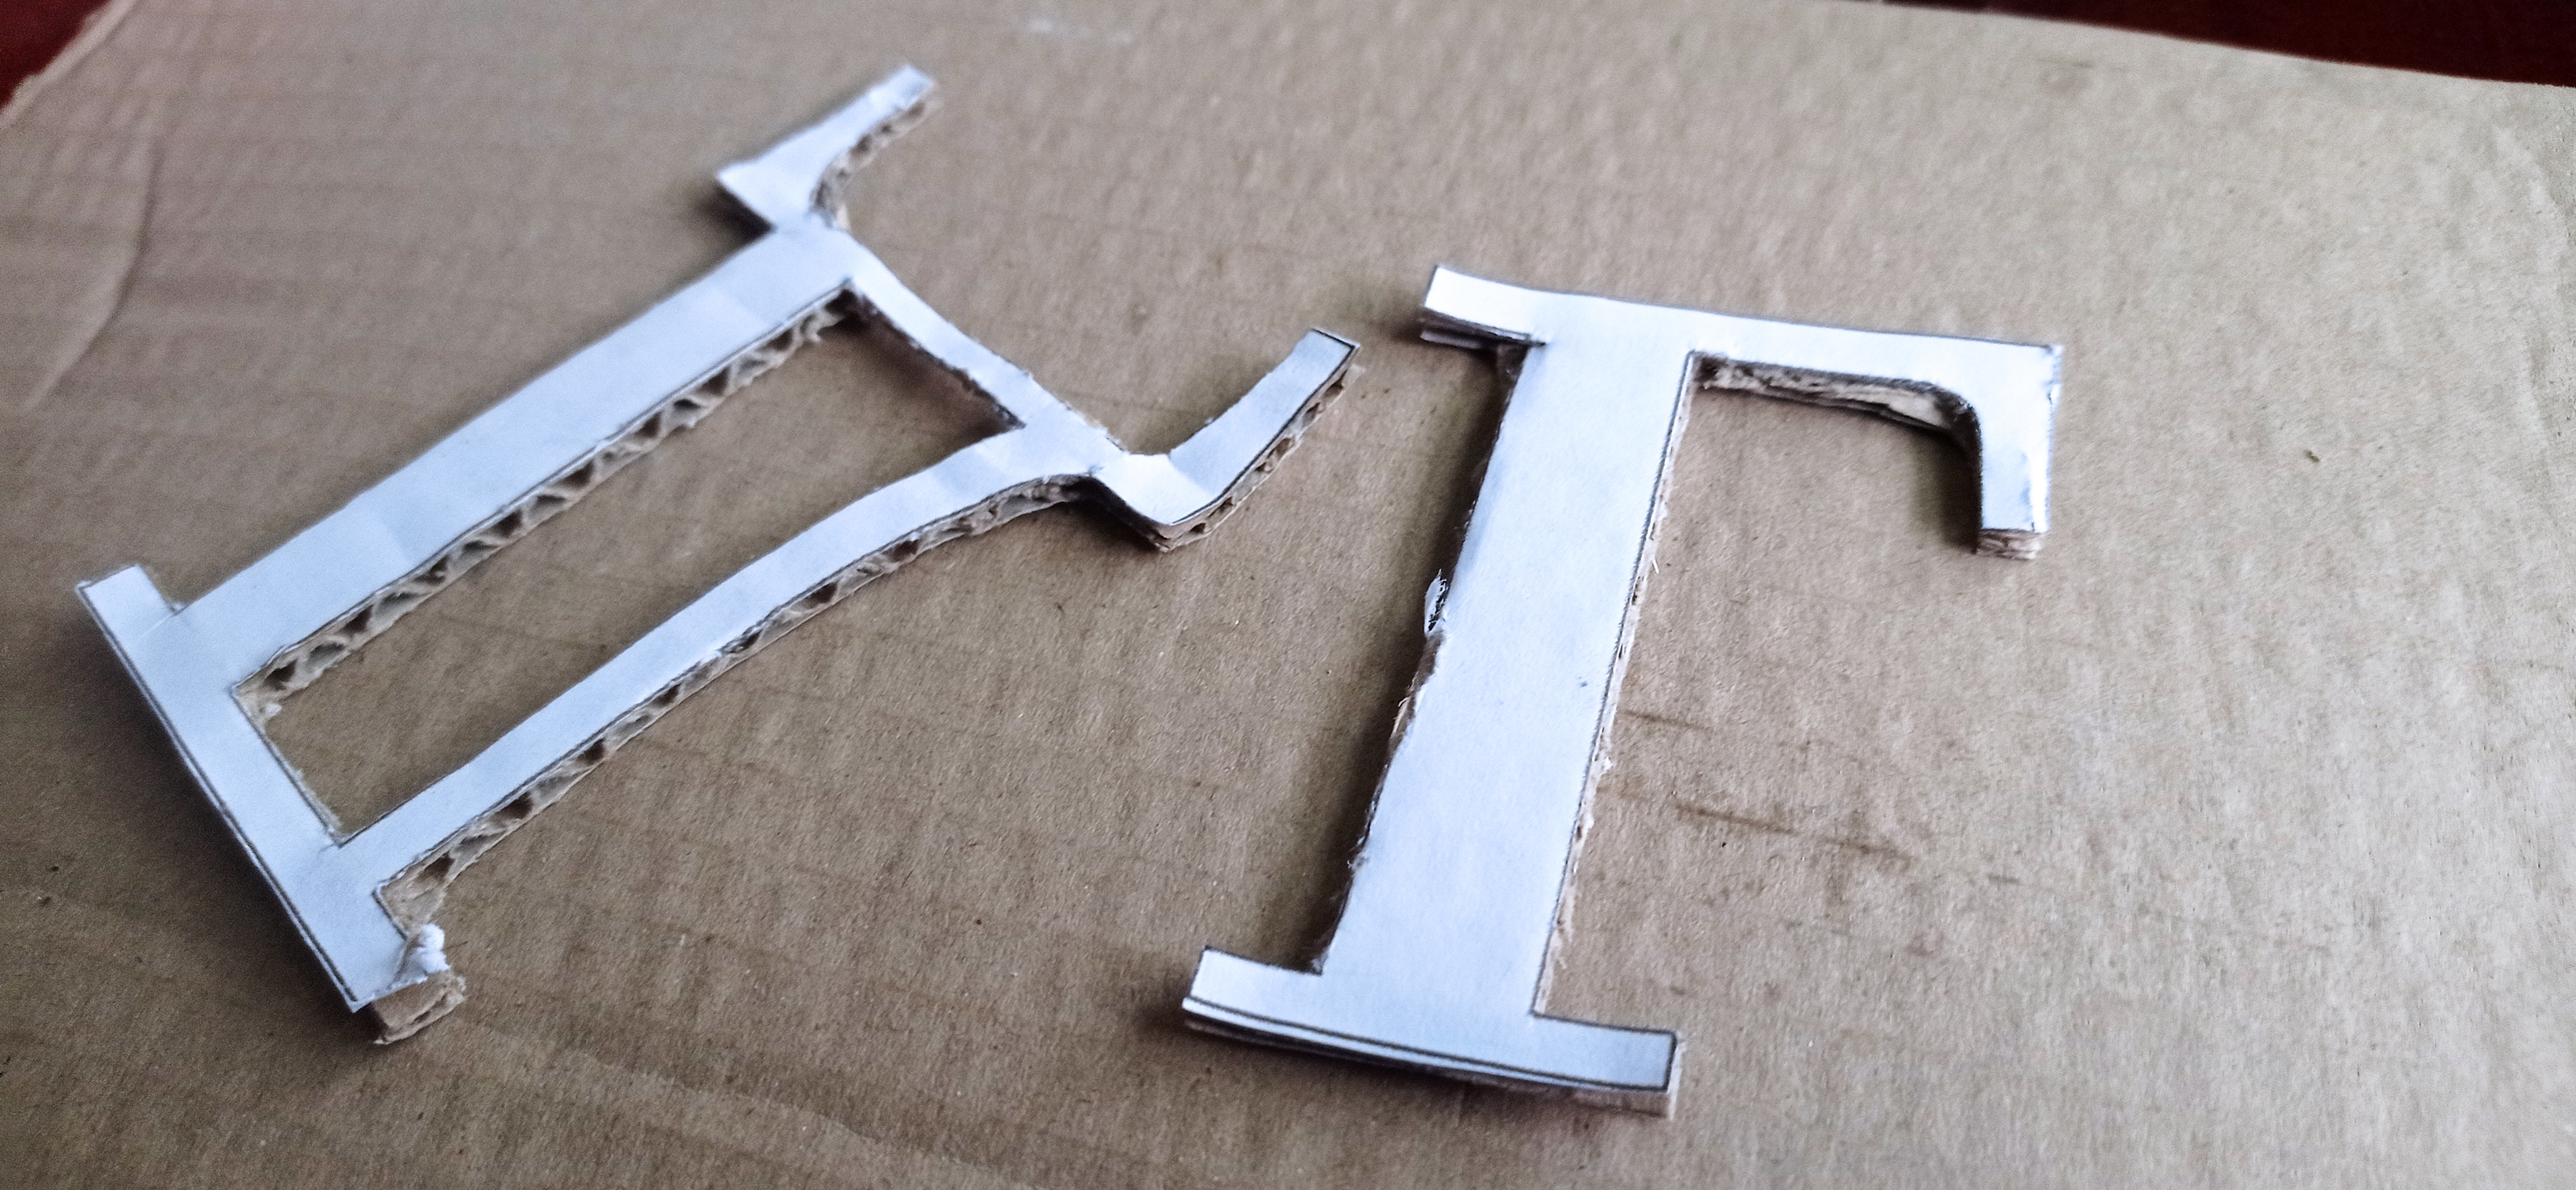d: (66, 66, 1355, 1047)
g: (1175, 258, 2063, 1123)
